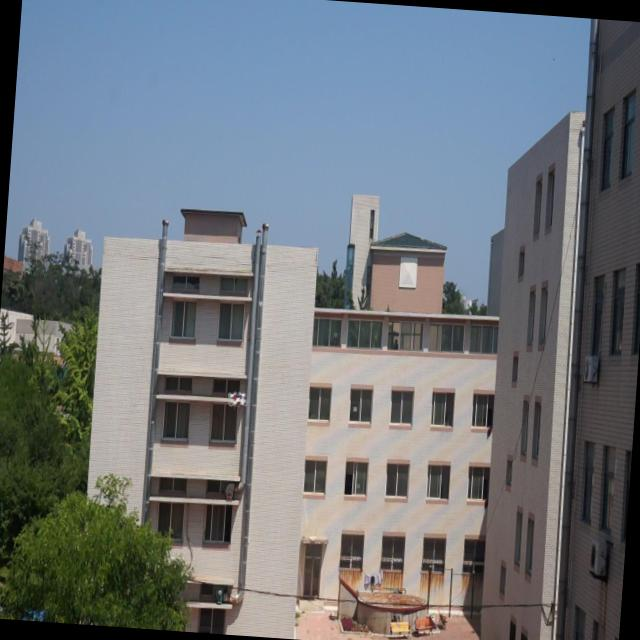drone: (226, 387, 246, 409)
